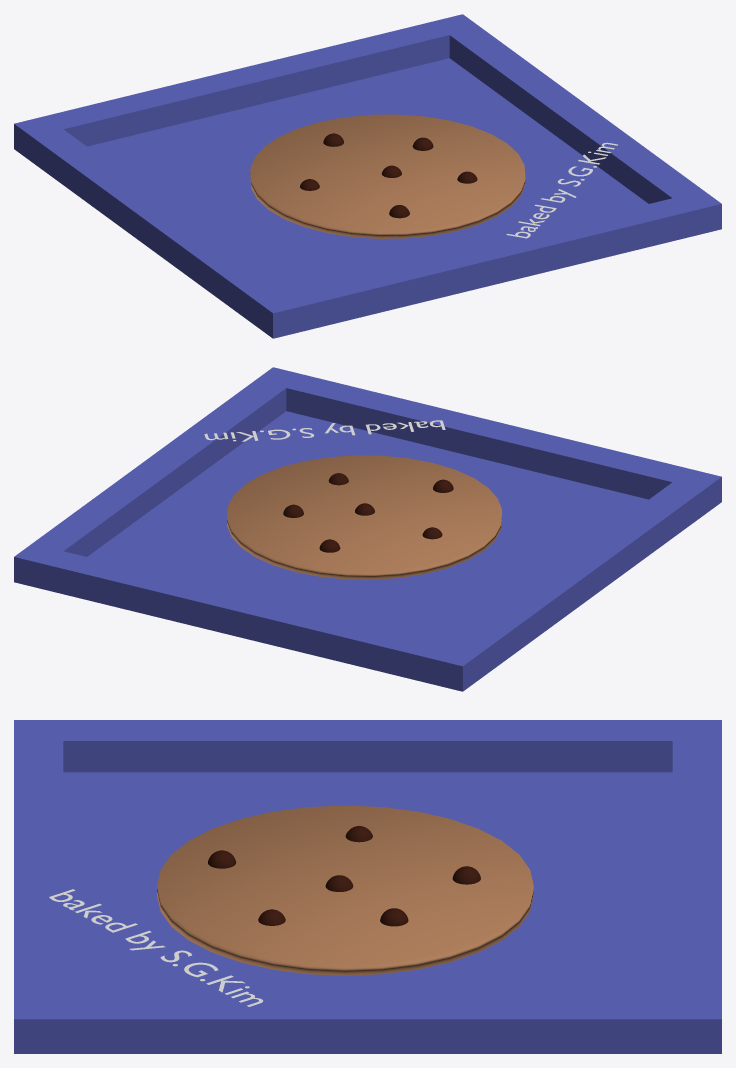
The model's file is first_cookie_by_sg.fbx.
3 renders of one model, top to bottom at view 1: azimuth 30°, elevation 25°; view 2: azimuth 150°, elevation 25°; view 3: azimuth 270°, elevation 25°, orthographic. The views are drawn at different scales.
Visible parts, largest first — view 1: Cube, cookie, Text; view 2: Cube, cookie, Text; view 3: Cube, cookie, Text.
Boxes of the visible parts, bbox=[...] form: Cube: bbox=[14, 14, 721, 338]; cookie: bbox=[250, 114, 525, 238]; Text: bbox=[506, 142, 617, 238]; Cube: bbox=[14, 367, 721, 691]; cookie: bbox=[227, 455, 501, 579]; Text: bbox=[204, 420, 445, 441]; Cube: bbox=[14, 720, 721, 1053]; cookie: bbox=[157, 805, 533, 975]; Text: bbox=[49, 889, 262, 1006].
Bounding box in the file's own units: 532 × 31.51 × 532.
